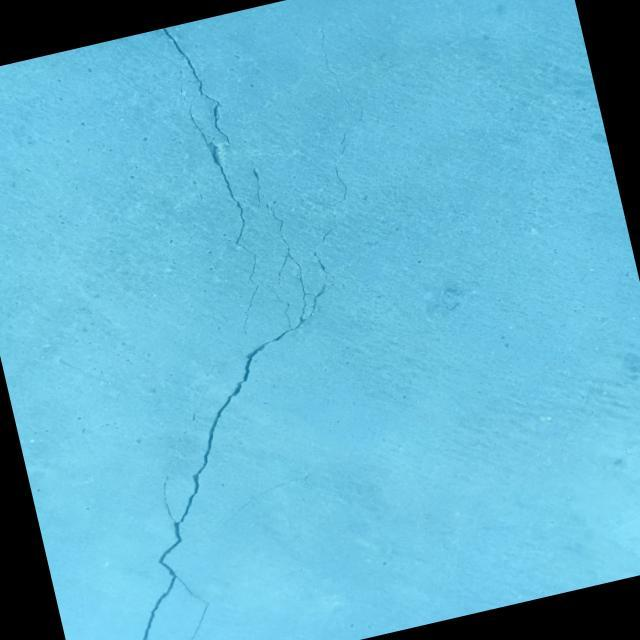crack: (0, 156, 415, 640), (176, 62, 273, 336), (160, 19, 230, 153), (314, 16, 354, 114), (332, 106, 372, 155), (323, 164, 350, 207), (320, 224, 339, 241)
